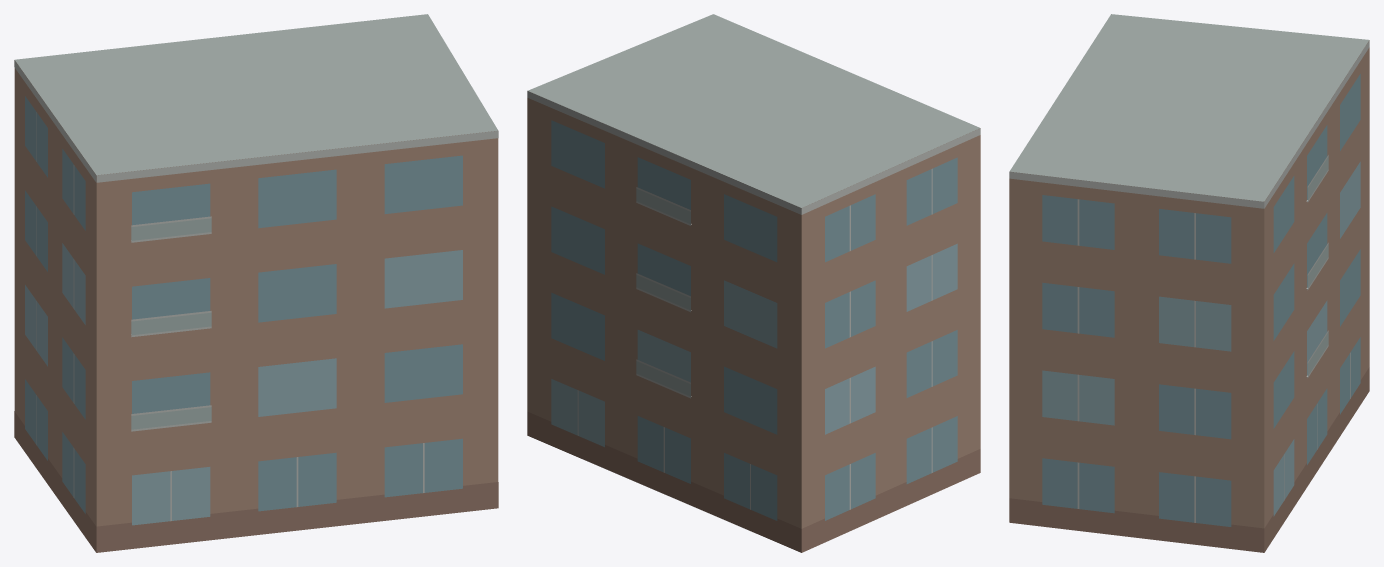
File: survey-upis-32647854.glb
3 renders of one model, left to right at view 1: azimuth 30°, elevation 25°; view 2: azimuth 150°, elevation 25°; view 3: azimuth 270°, elevation 25°, orthographic. The views are drawn at different scales.
Parts seen in each view (by area): view 1: survey-upis-32647854.tmp; view 2: survey-upis-32647854.tmp; view 3: survey-upis-32647854.tmp.
Part boxes in pixels (<box>): survey-upis-32647854.tmp: <box>14,14,498,552</box>; survey-upis-32647854.tmp: <box>527,14,980,552</box>; survey-upis-32647854.tmp: <box>1009,14,1369,552</box>.
Size of the model in its own units: 14 by 12.2 by 11.35.
